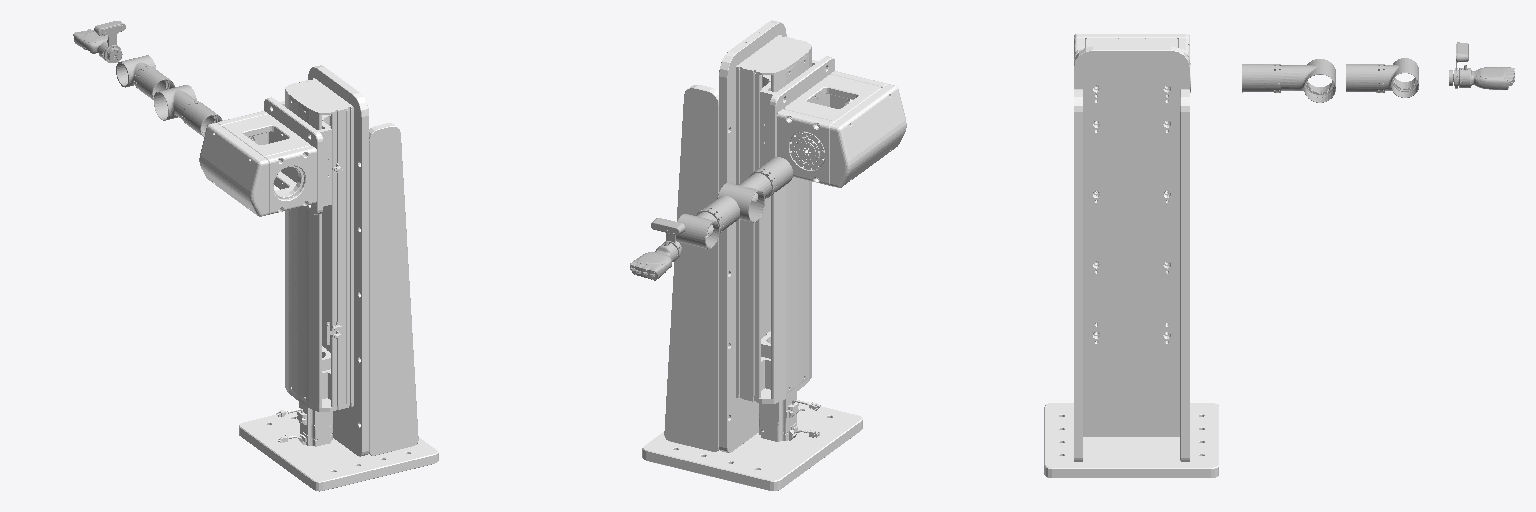
The robot description file, URDF, robot "RH_JEARM":
<?xml version="1.0" encoding="utf-8"?>
<!-- This URDF was automatically created by SolidWorks to URDF Exporter! Originally created by [author] ([email redacted]) 
     Commit Version: 1.6.0-4-g7f85cfe  Build Version: 1.6.7995.38578
     For more information, please see http://wiki.ros.org/sw_urdf_exporter -->
<robot
  name="RH_JEARM">
  <link
    name="base_link">
    <inertial>
      <origin
        xyz="0.173904401266765 0.000548643864132725 0.497067921686826"
        rpy="0 0 0" />
      <mass
        value="34.2155433013561" />
      <inertia
        ixx="3.83979560062574"
        ixy="-6.9569946028145E-05"
        ixz="0.0295341283064401"
        iyy="3.66849236871358"
        iyz="0.000103702495840981"
        izz="0.541653420316676" />
    </inertial>
    <visual>
      <origin
        xyz="0 0 0"
        rpy="0 0 0" />
      <geometry>
        <mesh
          filename="base_link.STL" />
      </geometry>
      <material
        name="">
        <color
          rgba="1 1 1 1" />
      </material>
    </visual>
    <collision>
      <origin
        xyz="0 0 0"
        rpy="0 0 0" />
      <geometry>
        <mesh
          filename="base_link.STL" />
      </geometry>
    </collision>
  </link>
  <link
    name="Link1">
    <inertial>
      <origin
        xyz="-2.78361189959275E-05 0.00322228656567408 0.00617631002498971"
        rpy="0 0 0" />
      <mass
        value="0.159032417495047" />
      <inertia
        ixx="0.000247408483791979"
        ixy="-1.71028716174284E-07"
        ixz="-5.12014673130611E-08"
        iyy="0.000182068327974948"
        iyz="-2.59581548455341E-06"
        izz="0.000216756026891669" />
    </inertial>
    <visual>
      <origin
        xyz="0 0 0"
        rpy="0 0 0" />
      <geometry>
        <mesh
          filename="Link1.STL" />
      </geometry>
      <material
        name="">
        <color
          rgba="1 1 1 1" />
      </material>
    </visual>
    <collision>
      <origin
        xyz="0 0 0"
        rpy="0 0 0" />
      <geometry>
        <mesh
          filename="Link1.STL" />
      </geometry>
    </collision>
  </link>
  <joint
    name="joint1"
    type="revolute">
    <origin
      xyz="-0.0445 0.2126 0.9008"
      rpy="1.5708 -1.5708 0" />
    <parent
      link="base_link" />
    <child
      link="Link1" />
    <axis
      xyz="0 0 1" />
    <limit
      lower="-31.4"
      upper="31.4"
      effort="100"
      velocity="31.4" />
  </joint>
  <link
    name="Link2">
    <inertial>
      <origin
        xyz="-1.63266367758652E-07 -0.0256026505579964 -0.00229314008429632"
        rpy="0 0 0" />
      <mass
        value="0.243793701990545" />
      <inertia
        ixx="0.000941741092859038"
        ixy="-7.92653544426337E-10"
        ixz="2.004665597649E-09"
        iyy="0.000779324493793612"
        iyz="-7.47707501241262E-06"
        izz="0.000323680400868476" />
    </inertial>
    <visual>
      <origin
        xyz="0 0 0"
        rpy="0 0 0" />
      <geometry>
        <mesh
          filename="Link2.STL" />
      </geometry>
      <material
        name="">
        <color
          rgba="1 1 1 1" />
      </material>
    </visual>
    <collision>
      <origin
        xyz="0 0 0"
        rpy="0 0 0" />
      <geometry>
        <mesh
          filename="Link2.STL" />
      </geometry>
    </collision>
  </link>
  <joint
    name="joint2"
    type="revolute">
    <origin
      xyz="0 0 0"
      rpy="1.5708 0 0" />
    <parent
      link="Link1" />
    <child
      link="Link2" />
    <axis
      xyz="0 0 1" />
    <limit
      lower="-31.4"
      upper="31.4"
      effort="100"
      velocity="31.4" />
  </joint>
  <link
    name="Link3">
    <inertial>
      <origin
        xyz="-0.00133919405917204 -0.000273594582141101 0.0780053635263558"
        rpy="0 0 0" />
      <mass
        value="0.249547645812502" />
      <inertia
        ixx="0.00049971986658278"
        ixy="1.56499694946379E-07"
        ixz="-2.00359608246628E-05"
        iyy="0.000526985959033148"
        iyz="-5.99932620144416E-07"
        izz="0.000281138997829168" />
    </inertial>
    <visual>
      <origin
        xyz="0 0 0"
        rpy="0 0 0" />
      <geometry>
        <mesh
          filename="Link3.STL" />
      </geometry>
      <material
        name="">
        <color
          rgba="0.819607843137255 0.819607843137255 0.819607843137255 1" />
      </material>
    </visual>
    <collision>
      <origin
        xyz="0 0 0"
        rpy="0 0 0" />
      <geometry>
        <mesh
          filename="Link3.STL" />
      </geometry>
    </collision>
  </link>
  <joint
    name="joint3"
    type="revolute">
    <origin
      xyz="0 -0.2719 0"
      rpy="-1.5708 0 0" />
    <parent
      link="Link2" />
    <child
      link="Link3" />
    <axis
      xyz="0 0 1" />
    <limit
      lower="-31.4"
      upper="31.4"
      effort="100"
      velocity="31.4" />
  </joint>
  <link
    name="Link4">
    <inertial>
      <origin
        xyz="0.00252976028565877 -0.0159855148230527 -0.00375255611068442"
        rpy="0 0 0" />
      <mass
        value="0.140360397584585" />
      <inertia
        ixx="0.000478099297631364"
        ixy="1.2649716316536E-05"
        ixz="-1.16695285465311E-06"
        iyy="0.000405372160172562"
        iyz="8.44005092455011E-06"
        izz="0.000175373478467327" />
    </inertial>
    <visual>
      <origin
        xyz="0 0 0"
        rpy="0 0 0" />
      <geometry>
        <mesh
          filename="Link4.STL" />
      </geometry>
      <material
        name="">
        <color
          rgba="1 1 1 1" />
      </material>
    </visual>
    <collision>
      <origin
        xyz="0 0 0"
        rpy="0 0 0" />
      <geometry>
        <mesh
          filename="Link4.STL" />
      </geometry>
    </collision>
  </link>
  <joint
    name="joint4"
    type="revolute">
    <origin
      xyz="-0.008 0 0"
      rpy="1.5708 0 0" />
    <parent
      link="Link3" />
    <child
      link="Link4" />
    <axis
      xyz="0 0 1" />
    <limit
      lower="-31.4"
      upper="31.4"
      effort="100"
      velocity="31.4" />
  </joint>
  <link
    name="Link5">
    <inertial>
      <origin
        xyz="1.27921006787268E-07 0.00163210833384031 0.0520239678804707"
        rpy="0 0 0" />
      <mass
        value="0.203459403127014" />
      <inertia
        ixx="0.000283282573696283"
        ixy="9.1338544705066E-10"
        ixz="-1.31064037455211E-09"
        iyy="0.000290785912383688"
        iyz="8.32280669783857E-06"
        izz="0.000231513900748129" />
    </inertial>
    <visual>
      <origin
        xyz="0 0 0"
        rpy="0 0 0" />
      <geometry>
        <mesh
          filename="Link5.STL" />
      </geometry>
      <material
        name="">
        <color
          rgba="0.819607843137255 0.819607843137255 0.819607843137255 1" />
      </material>
    </visual>
    <collision>
      <origin
        xyz="0 0 0"
        rpy="0 0 0" />
      <geometry>
        <mesh
          filename="Link5.STL" />
      </geometry>
    </collision>
  </link>
  <joint
    name="joint5"
    type="revolute">
    <origin
      xyz="0.008 -0.2189 0"
      rpy="-1.5708 0 0" />
    <parent
      link="Link4" />
    <child
      link="Link5" />
    <axis
      xyz="0 0 1" />
    <limit
      lower="-31.4"
      upper="31.4"
      effort="100"
      velocity="31.4" />
  </joint>
  <link
    name="Link6">
    <inertial>
      <origin
        xyz="-4.96392515980659E-08 -0.0488509707365404 0.00148906609676797"
        rpy="0 0 0" />
      <mass
        value="0.139511938718152" />
      <inertia
        ixx="0.000235435502751696"
        ixy="8.05181312234589E-10"
        ixz="-6.40982003370857E-10"
        iyy="0.000165450668750382"
        iyz="5.52340343814491E-05"
        izz="0.000188382083480458" />
    </inertial>
    <visual>
      <origin
        xyz="0 0 0"
        rpy="0 0 0" />
      <geometry>
        <mesh
          filename="Link6.STL" />
      </geometry>
      <material
        name="">
        <color
          rgba="0.819607843137255 0.819607843137255 0.819607843137255 1" />
      </material>
    </visual>
    <collision>
      <origin
        xyz="0 0 0"
        rpy="0 0 0" />
      <geometry>
        <mesh
          filename="Link6.STL" />
      </geometry>
    </collision>
  </link>
  <joint
    name="joint6"
    type="revolute">
    <origin
      xyz="0 0 0"
      rpy="1.5708 0 0" />
    <parent
      link="Link5" />
    <child
      link="Link6" />
    <axis
      xyz="0 0 1" />
    <limit
      lower="-31.4"
      upper="31.4"
      effort="100"
      velocity="31.4" />
  </joint>
  <link
    name="Link7">
    <inertial>
      <origin
        xyz="0.0126516572633909 0.00064615158654624 -0.0674418230569431"
        rpy="0 0 0" />
      <mass
        value="0.369150471437428" />
      <inertia
        ixx="0.000447587035224407"
        ixy="3.54084994990493E-08"
        ixz="-5.837963734774E-06"
        iyy="0.000337381345634037"
        iyz="7.63608553227476E-06"
        izz="0.000186784307057939" />
    </inertial>
    <visual>
      <origin
        xyz="0 0 0"
        rpy="0 0 0" />
      <geometry>
        <mesh
          filename="Link7.STL" />
      </geometry>
      <material
        name="">
        <color
          rgba="0.819607843137255 0.819607843137255 0.819607843137255 1" />
      </material>
    </visual>
    <collision>
      <origin
        xyz="0 0 0"
        rpy="0 0 0" />
      <geometry>
        <mesh
          filename="Link7.STL" />
      </geometry>
    </collision>
  </link>
  <joint
    name="joint7"
    type="revolute">
    <origin
      xyz="0 -0.124 0"
      rpy="-1.5708 0 0" />
    <parent
      link="Link6" />
    <child
      link="Link7" />
    <axis
      xyz="0 0 1" />
    <limit
      lower="-31.4"
      upper="31.4"
      effort="100"
      velocity="31.4" />
  </joint>
</robot>

--- What the picture shows (computed from the rendered views, not written in the file) ---
Views: 3 orthographic renders of the robot side by side, from view 1: azimuth 30°, elevation 25°; view 2: azimuth 150°, elevation 25°; view 3: azimuth 270°, elevation 25°.
Robot: RH_JEARM — 8 links, 7 joints (7 revolute); root link base_link; default pose: all joints at 0.
Links seen in each view (by area): view 1: base_link, Link3, Link5, Link7; view 2: base_link, Link3, Link5, Link7; view 3: base_link, Link3, Link5, Link7.
Boxes of the visible links, bbox=[...] form: base_link: bbox=[199, 65, 438, 491]; Link3: bbox=[154, 85, 222, 136]; Link5: bbox=[116, 55, 174, 99]; Link7: bbox=[73, 21, 125, 62]; base_link: bbox=[642, 20, 906, 490]; Link3: bbox=[717, 157, 792, 222]; Link5: bbox=[676, 196, 739, 248]; Link7: bbox=[630, 218, 685, 280]; base_link: bbox=[1044, 34, 1218, 477]; Link3: bbox=[1242, 59, 1335, 102]; Link5: bbox=[1346, 58, 1418, 97]; Link7: bbox=[1449, 42, 1514, 89].
Size in the robot's own frame: 0.5656 by 1.21 by 1.13 metres.
4 mesh visuals loaded from 8 distinct referenced files (4 binary STL); not drawn: 4 (reference not matched to a file when rendering).